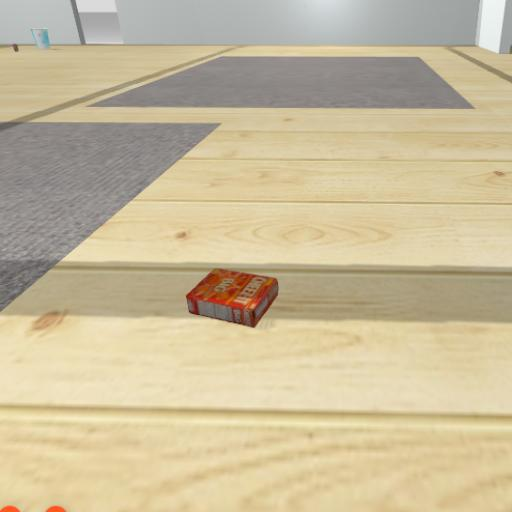BOX_R: (150, 226, 310, 357)
